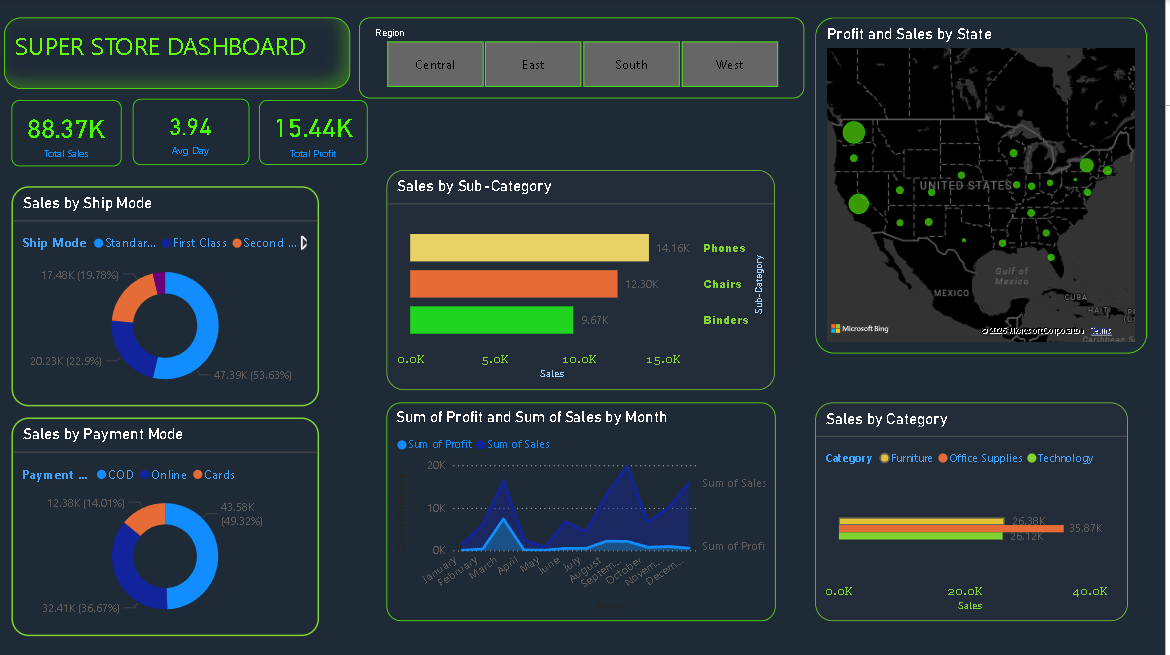

This screenshot's page, from the dashboard's own definition file:
{"tool":"powerbi","page":{"name":"Page 1","canvas":[1280,720],"ordinal":0},"visuals":[{"type":"clusteredBarChart","fields":{"Y":["Sum(Sheet1.Sales)"],"Series":["Sheet1.Category"]},"box":[896.1,441.9,343.1,240.1],"z":0},{"type":"clusteredBarChart","fields":{"Y":["Sum(Sheet1.Sales)"],"Category":["Sheet1.Sub-Category"]},"box":[425.4,186.6,426.8,241.5],"z":1000},{"type":"donutChart","fields":{"Category":["Sheet1.Ship Mode"],"Y":["Sum(Sheet1.Sales)"]},"box":[13.7,204.5,337.6,241.5],"z":2000},{"type":"stackedAreaChart","fields":{"Y":["Sum(Sheet1.Profit)","Sum(Sheet1.Sales)"],"Category":["Sheet1.Order Date.Variation.Date Hierarchy.Month"]},"box":[425.7,441.4,427.1,240],"z":3000},{"type":"map","fields":{"Category":["Sheet1.State"],"Size":["Sum(Sheet1.Profit)"]},"box":[896.1,19.2,363.6,369.1],"z":4000},{"type":"donutChart","fields":{"Category":["Sheet1.Payment Mode"],"Y":["Sum(Sheet1.Sales)"]},"box":[13.7,458.3,337.6,240.1],"z":5000},{"type":"slicer","fields":{"Values":["Sheet1.Region"]},"box":[395.7,18.6,488.6,88.6],"z":6000},{"type":"textbox","box":[5.7,18.6,380,78.6],"z":7000},{"type":"card","fields":{"Values":["Sum(Sheet1.Sales)"]},"box":[13.7,109.8,120.8,72.7],"z":8000},{"type":"card","fields":{"Values":["Avg(Sheet1.Avg Day)"]},"box":[146.8,108.4,127.6,72.7],"z":9000},{"type":"card","fields":{"Values":["Sum(Sheet1.Profit)"]},"box":[285.4,109.8,119.4,71.4],"z":10000}]}

Visuals, with their boxes in screenshot pixels (x1, y1, x2, y2), scaled from the page's 1280x720 canvas onto the 1170x655 screenshot:
clusteredBarChart - Sum(Sheet1.Sales) x Sheet1.Category: 819,402,1133,620
clusteredBarChart - Sum(Sheet1.Sales) x Sheet1.Sub-Category: 389,170,779,389
donutChart - Sheet1.Ship Mode x Sum(Sheet1.Sales): 13,186,321,406
stackedAreaChart - Sum(Sheet1.Profit) x Sum(Sheet1.Sales): 389,402,780,620
map - Sheet1.State x Sum(Sheet1.Profit): 819,17,1151,353
donutChart - Sheet1.Payment Mode x Sum(Sheet1.Sales): 13,417,321,635
slicer - Sheet1.Region: 362,17,808,98
textbox: 5,17,353,88
card - Sum(Sheet1.Sales): 13,100,123,166
card - Avg(Sheet1.Avg Day): 134,99,251,165
card - Sum(Sheet1.Profit): 261,100,370,165
